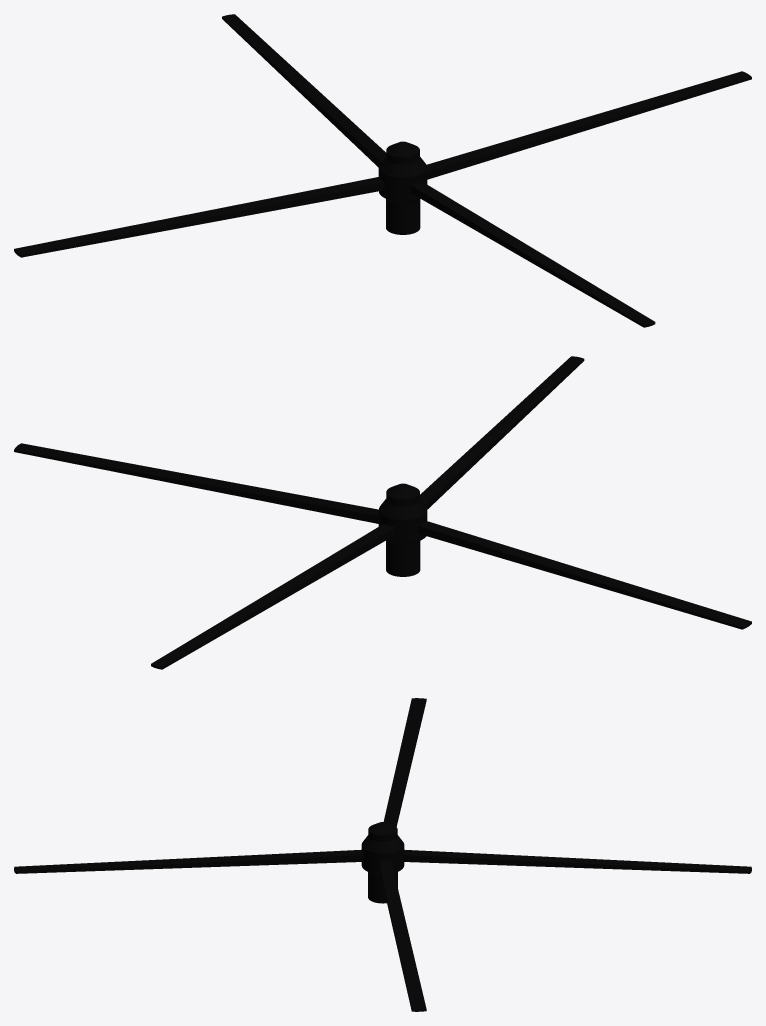
The picture shows the model from 3 angles, top to bottom: view 1: azimuth 30°, elevation 25°; view 2: azimuth 150°, elevation 25°; view 3: azimuth 270°, elevation 25°; orthographic projection. The views are drawn at different scales.
Visible parts, largest first — view 1: Helicopter.001; view 2: Helicopter.001; view 3: Helicopter.001.
Part boxes in pixels (left/top/right/bottom): Helicopter.001: left=14, top=14, right=751, bottom=327; Helicopter.001: left=14, top=356, right=751, bottom=669; Helicopter.001: left=14, top=698, right=751, bottom=1011.
Bounding box in the file's own units: 5.58 × 0.6118 × 5.58.
1 material, 1 textured.
